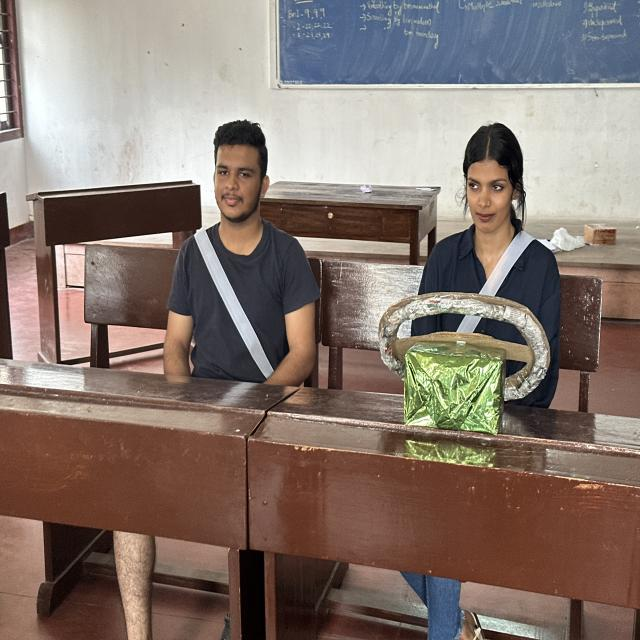seatbelt: (133, 217, 363, 371), (383, 232, 625, 375)
